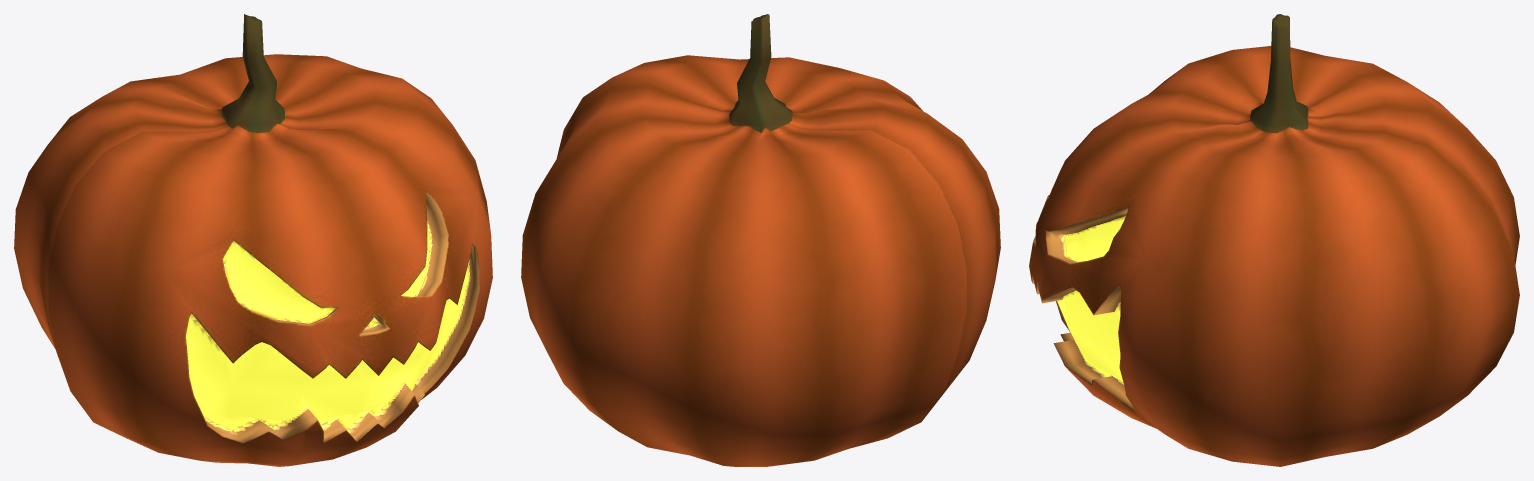
The model's file is pumpkin 2.fbx.
3 renders of one model, left to right at view 1: azimuth 30°, elevation 25°; view 2: azimuth 150°, elevation 25°; view 3: azimuth 270°, elevation 25°, orthographic.
Parts seen in each view (by area): view 1: Sphere.002; view 2: Sphere.002; view 3: Sphere.002.
Part boxes in pixels (<box>): Sphere.002: <box>14,14,492,466</box>; Sphere.002: <box>521,14,1000,466</box>; Sphere.002: <box>1029,14,1519,466</box>.
Bounding box in the file's own units: 139 × 132 × 146.
Materials: 1 (1 with a texture image).
